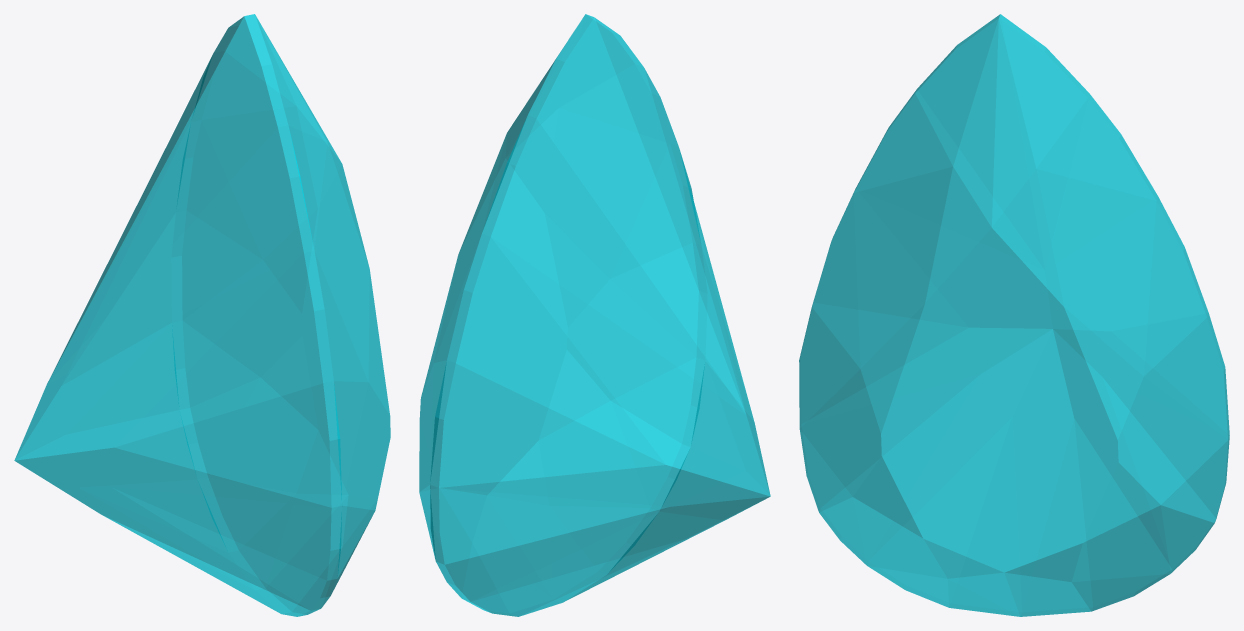
The model's file is pear aquamarine.glb.
3 views of the same model, side by side, from view 1: azimuth 30°, elevation 25°; view 2: azimuth 150°, elevation 25°; view 3: azimuth 270°, elevation 25° (orthographic).
Visible parts, largest first — view 1: Pear (tear); view 2: Pear (tear); view 3: Pear (tear).
Part boxes in pixels (box(x1,y1,x2,y2)): Pear (tear): box(14, 14, 390, 616); Pear (tear): box(419, 14, 770, 616); Pear (tear): box(799, 14, 1229, 616).
Size of the model in its own units: 1.19 by 2.09 by 1.39.
